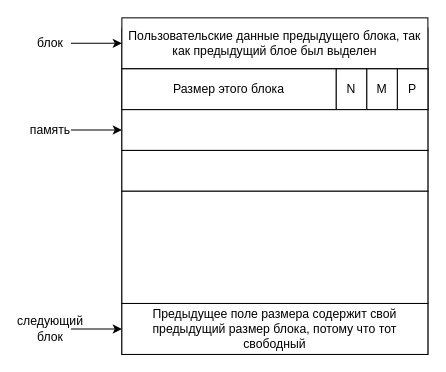
Image size: 446x372. Some labels were removed from this diagram. The box of each missing label's shape, as (x1, y1, x2, y2) in pixels:
bk - указывает на предыдущий блок в списке бинов: (121, 149, 428, 191)
fd - указывает на следующий блок в списке бинов: (121, 109, 428, 150)
Неиспользуемое место: (121, 190, 428, 303)
